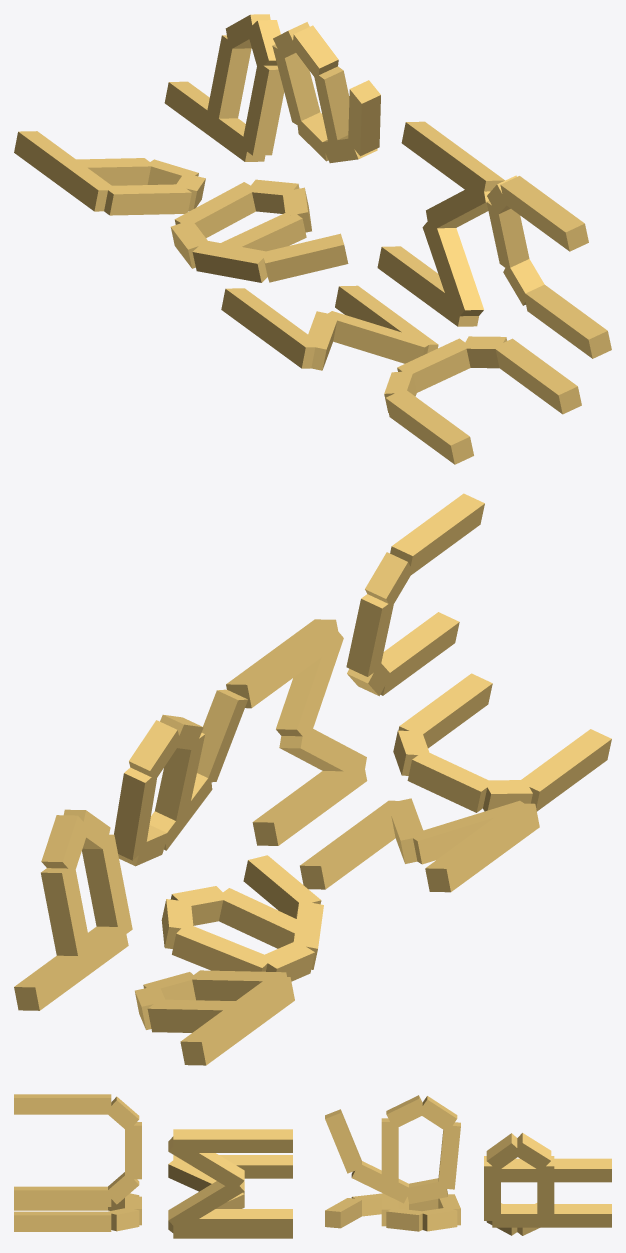
The model's file is letter.obj.
The picture shows the model from 3 angles, top to bottom: view 1: azimuth 30°, elevation 25°; view 2: azimuth 150°, elevation 25°; view 3: azimuth 270°, elevation 25°; orthographic projection. The views are drawn at different scales.
Parts seen in each view (by area): view 1: geometry; view 2: geometry; view 3: geometry.
Boxes of the visible parts, x1,y1,x2,y2 form: geometry: (14, 14, 611, 464); geometry: (14, 493, 611, 1065); geometry: (14, 1094, 611, 1238).
Size of the model in its own units: 1.76 by 1.73 by 6.
